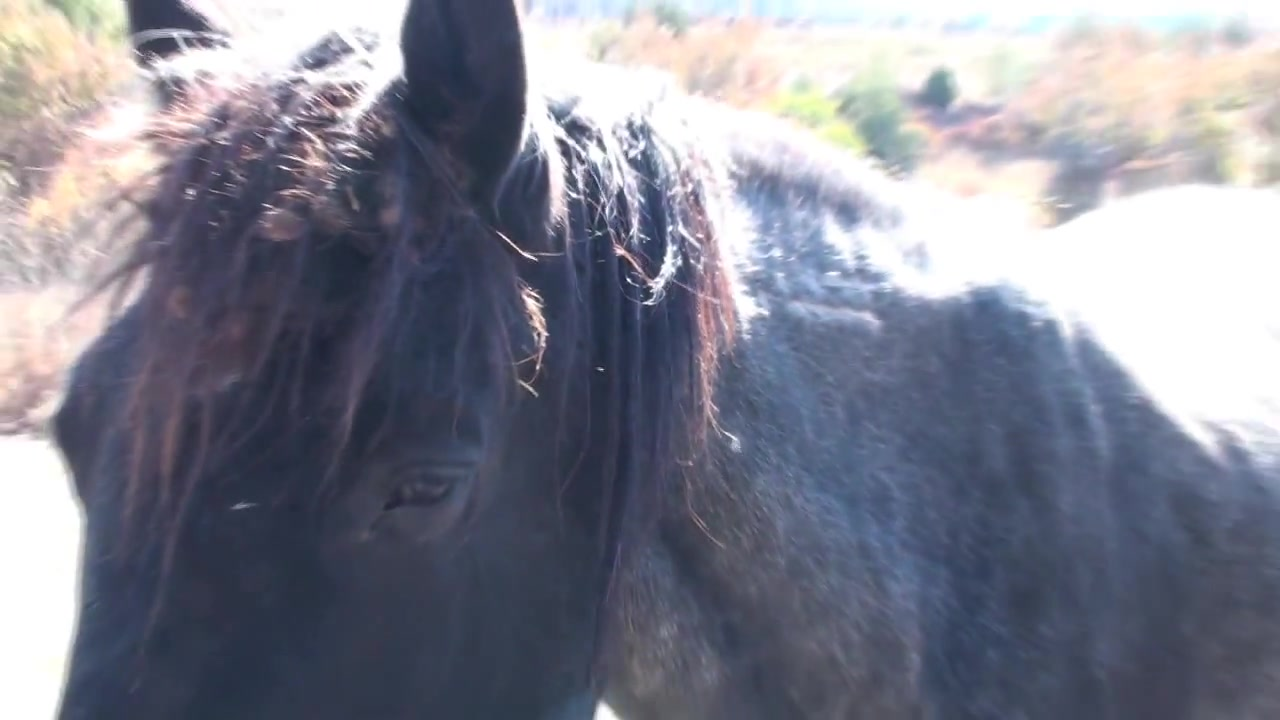horse: (3, 1, 1280, 720)
